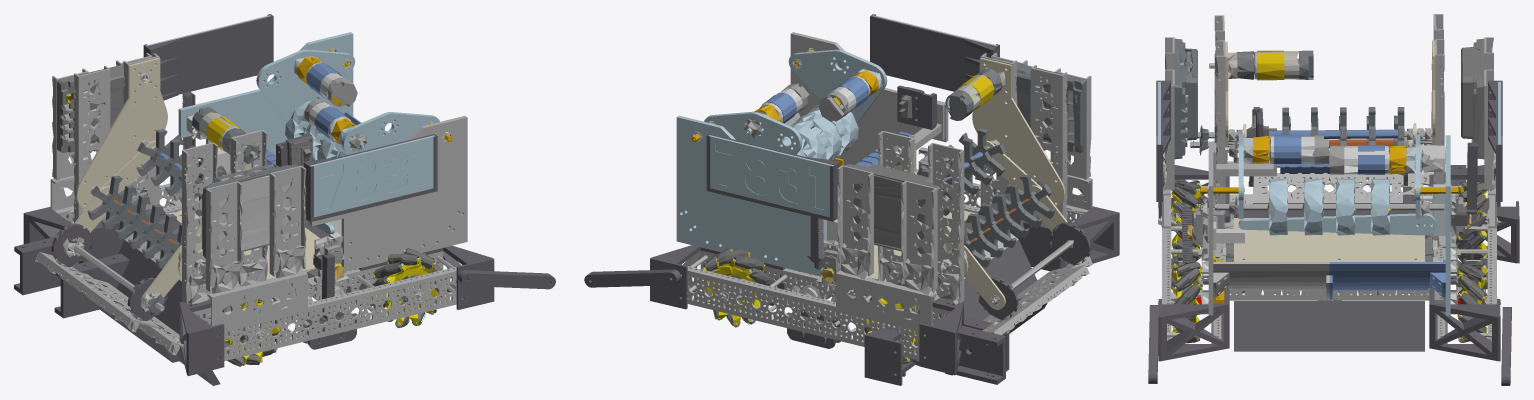
File: robot-pi.glb
3 views of the same model, side by side, from view 1: azimuth 30°, elevation 25°; view 2: azimuth 150°, elevation 25°; view 3: azimuth 270°, elevation 25° (orthographic). The views are drawn at different scales.
Visible parts, largest first — view 1: Drivetrain 0,1, Drivetrain -1,1, Drivetrain -1,-1, Drivetrain -1,0, Frame Plate -Y, Drivetrain 0,-1, Drivetrain 1,1, Frame Plate +Y, Pod COTS, Pod Plate +Y, Pod Plate -Y, Roller (+2 smaller); view 2: Drivetrain -1,-1, Drivetrain 0,-1, Drivetrain -1,1, Drivetrain -1,0, Frame Plate +Y, Drivetrain 0,1, Drivetrain 1,-1, Frame Plate -Y, Pod COTS, Pod Plate -Y, Roller, Pod Plate +Y (+2 smaller); view 3: Drivetrain 1,0, Printed Parts, Drivetrain -1,-1, Drivetrain -1,1, Drivetrain 0,0, Drivetrain -1,0, Drivetrain 0,-1, Drivetrain 0,1, Roller, Pod COTS, Drivetrain 1,1, Drivetrain 1,-1 (+6 smaller).
Boxes of the visible parts, box(x1,y1,x2,y2) form: Drivetrain 0,1: box(193, 134, 463, 360); Drivetrain -1,1: box(115, 128, 307, 375); Drivetrain -1,-1: box(14, 53, 184, 318); Drivetrain -1,0: box(36, 107, 240, 385); Frame Plate -Y: box(309, 116, 467, 271); Drivetrain 0,-1: box(60, 14, 273, 230); Drivetrain 1,1: box(352, 245, 555, 325); Frame Plate +Y: box(178, 32, 353, 155); Pod COTS: box(294, 56, 434, 151); Pod Plate +Y: box(256, 49, 355, 123); Pod Plate -Y: box(341, 112, 439, 154); Roller: box(285, 101, 346, 160); Drivetrain -1,-1: box(836, 131, 1018, 385); Drivetrain 0,-1: box(681, 133, 950, 360); Drivetrain -1,1: box(958, 53, 1119, 285); Drivetrain -1,0: box(915, 74, 1092, 375); Frame Plate +Y: box(676, 115, 823, 276); Drivetrain 0,1: box(870, 14, 1083, 222); Drivetrain 1,-1: box(584, 245, 791, 320); Frame Plate -Y: box(790, 32, 948, 172); Pod COTS: box(709, 58, 881, 138); Pod Plate -Y: box(788, 49, 887, 123); Roller: box(784, 104, 858, 160); Pod Plate +Y: box(704, 111, 802, 154); Drivetrain 1,0: box(1234, 301, 1424, 351); Printed Parts: box(1213, 143, 1445, 303); Drivetrain -1,-1: box(1397, 14, 1519, 278); Drivetrain -1,1: box(1158, 15, 1278, 261); Drivetrain 0,0: box(1224, 210, 1433, 300); Drivetrain -1,0: box(1190, 50, 1433, 228); Drivetrain 0,-1: box(1425, 69, 1502, 343); Drivetrain 0,1: box(1156, 69, 1276, 343); Roller: box(1215, 178, 1444, 235); Pod COTS: box(1225, 135, 1434, 196); Drivetrain 1,1: box(1148, 268, 1229, 383); Drivetrain 1,-1: box(1429, 274, 1511, 385).
Size of the model in its own units: 0.5908 by 0.3383 by 0.4663.
